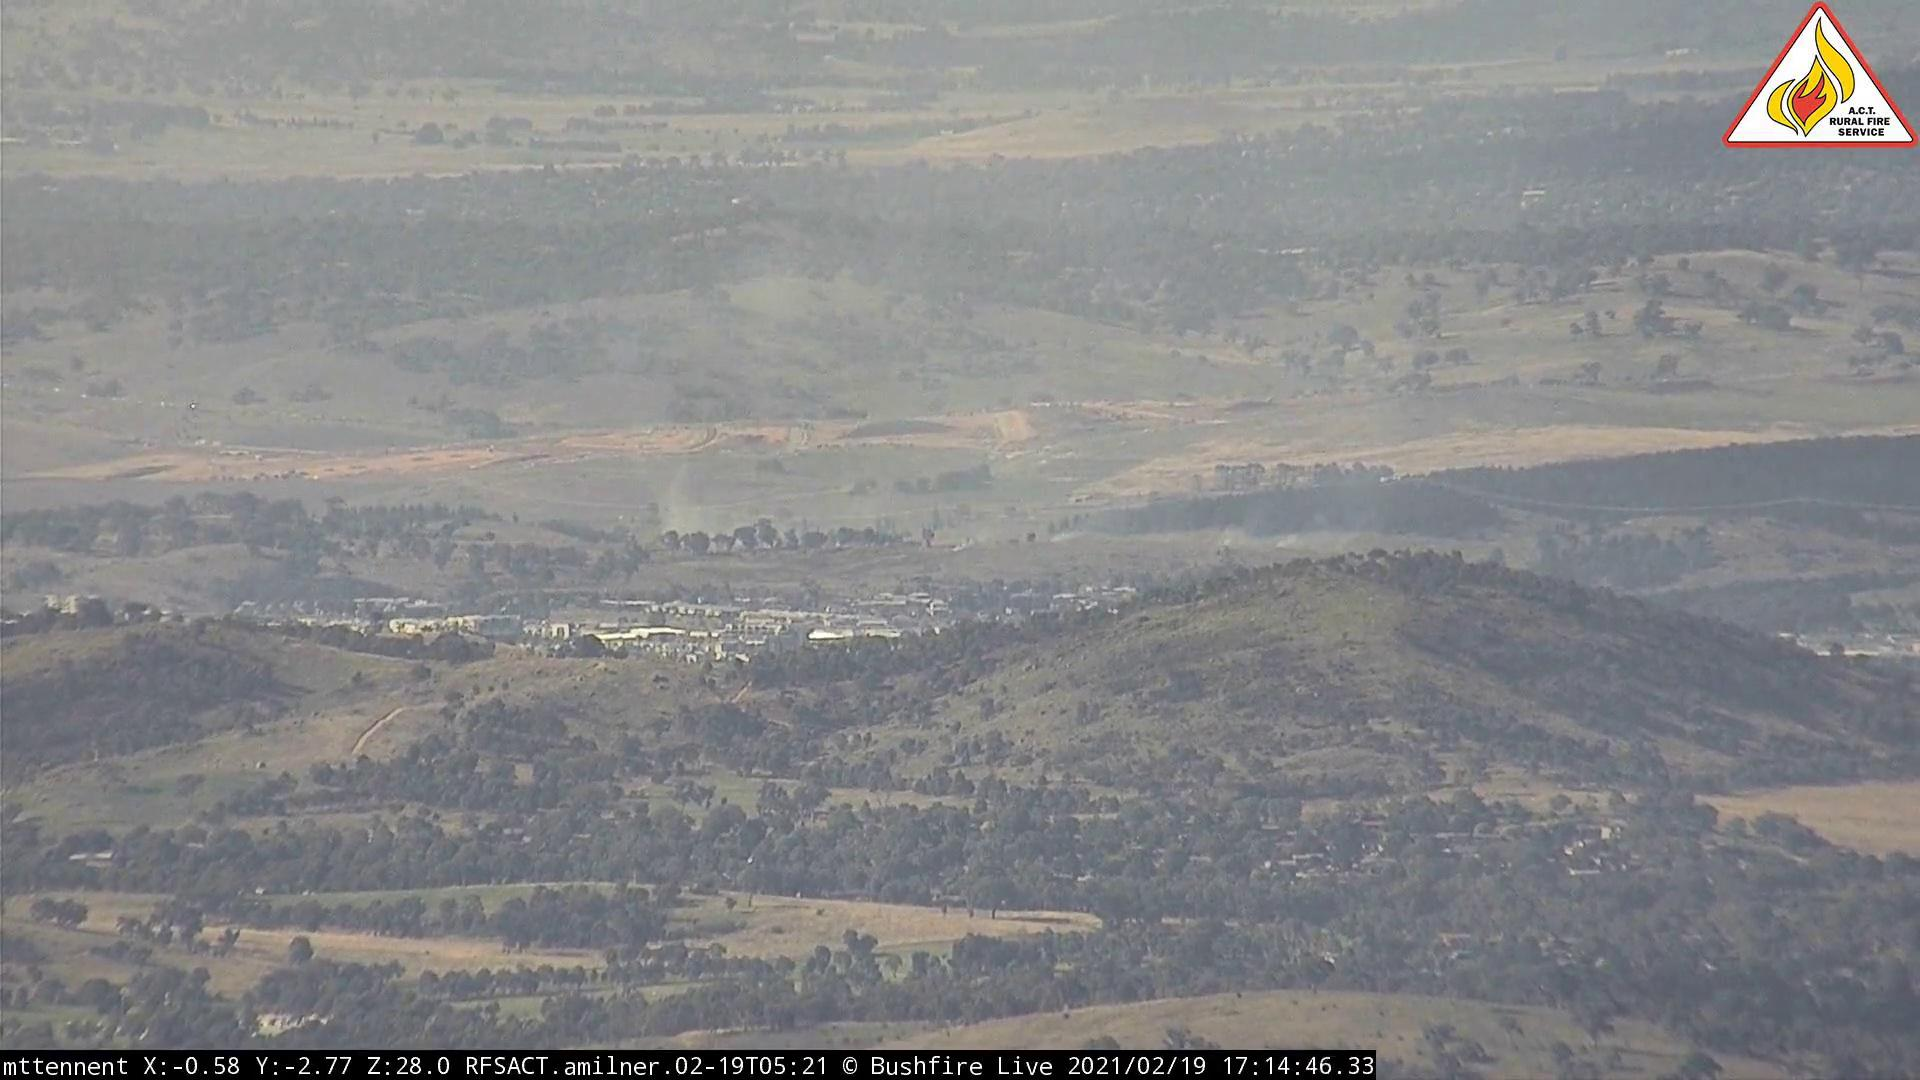instance_salient_object: (662, 392, 985, 560), (1217, 471, 1389, 556), (1052, 484, 1124, 554)
